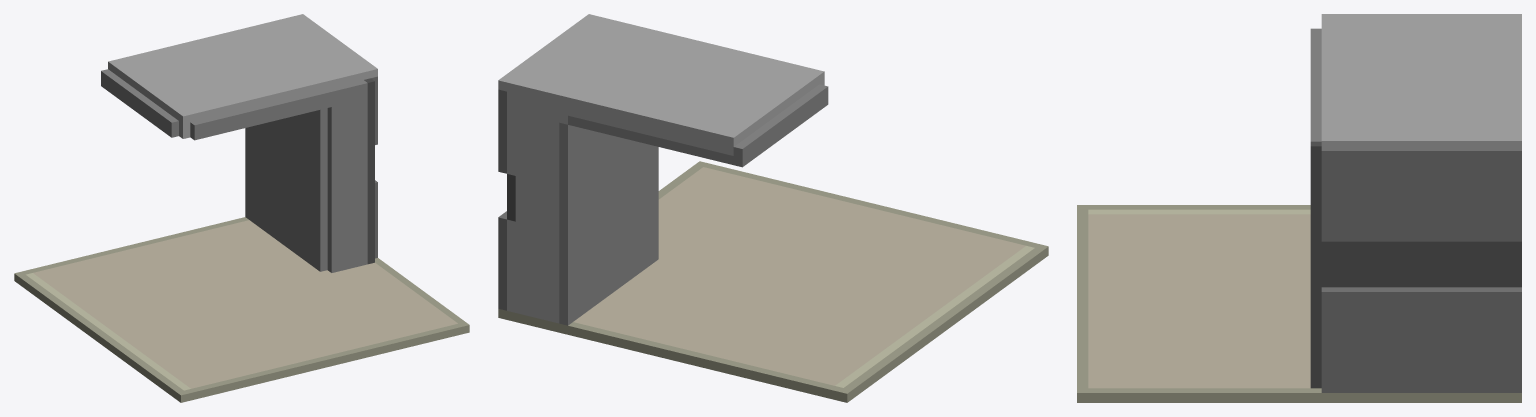
The model's file is Mesa_End_2.obj.
3 views of the same model, side by side, from view 1: azimuth 30°, elevation 25°; view 2: azimuth 150°, elevation 25°; view 3: azimuth 270°, elevation 25° (orthographic). The views are drawn at different scales.
Size of the model in its own units: 40 by 26 by 40.
Materials: 1 (1 with a texture image).
